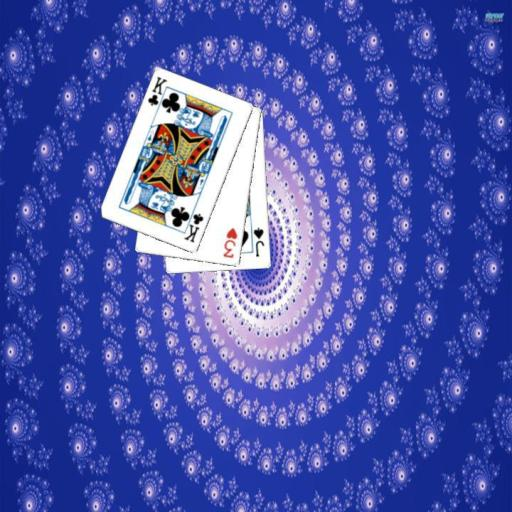3H: (220, 225, 239, 260)
JS: (251, 225, 266, 258)
KC: (144, 74, 170, 113), (180, 205, 205, 244)
